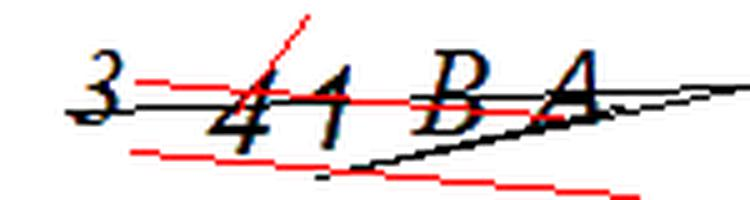1: (297, 58, 362, 157)
3: (65, 43, 143, 134)
4: (199, 64, 289, 163)
A: (521, 40, 619, 143)
B: (406, 40, 505, 146)
